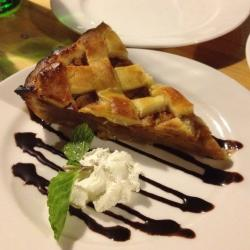apple_pie: (15, 21, 236, 166)
chantilly: (54, 142, 152, 223)
